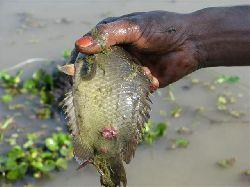Climbing Perch: (61, 32, 156, 187)
